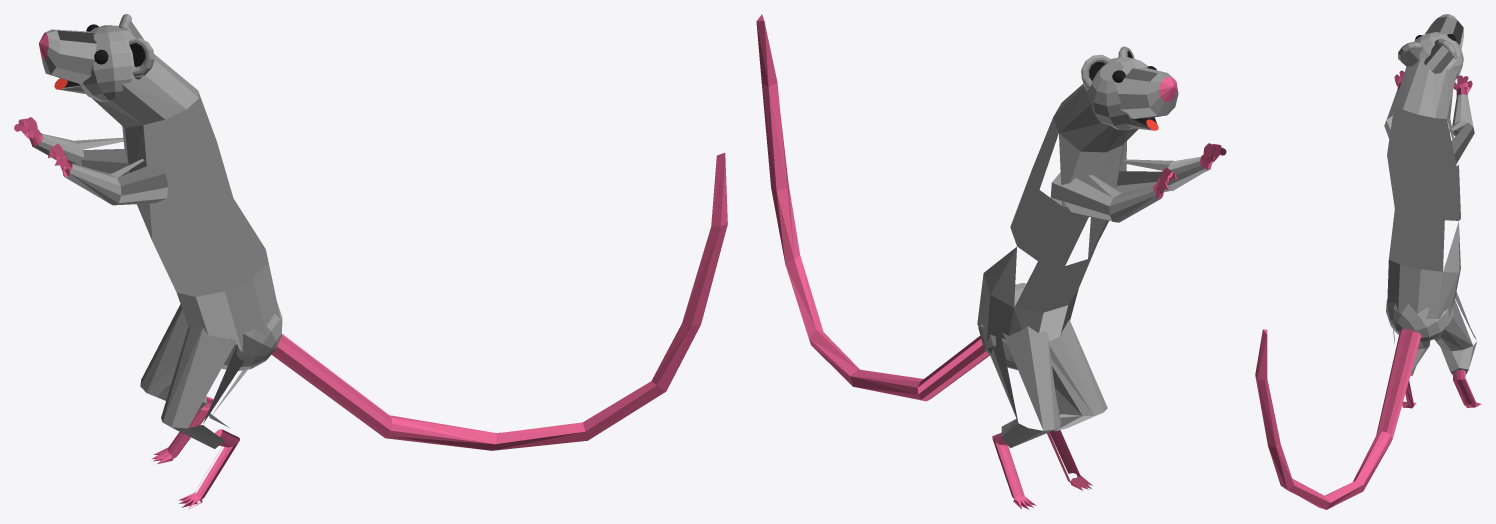
File: rat-by-tom---nach-zel-2pqlywgXHEj.glb
The picture shows the model from 3 angles, left to right: view 1: azimuth 30°, elevation 25°; view 2: azimuth 150°, elevation 25°; view 3: azimuth 270°, elevation 25°; orthographic projection. The views are drawn at different scales.
Parts seen in each view (by area): view 1: Node; view 2: Node; view 3: Node.
Boxes of the visible parts, x1,y1,x2,y2 form: Node: (14, 14, 727, 509); Node: (756, 14, 1226, 509); Node: (1255, 14, 1481, 509).
Bounding box in the file's own units: 0.8594 × 0.6792 × 0.3954.
